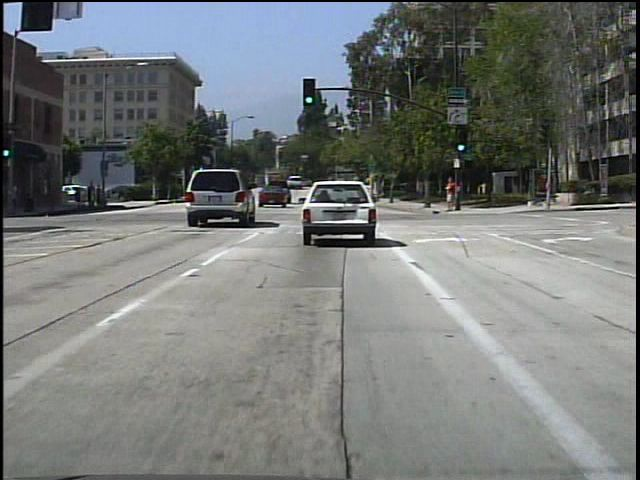person: (440, 172, 460, 216), (88, 179, 99, 212), (101, 182, 102, 208)
